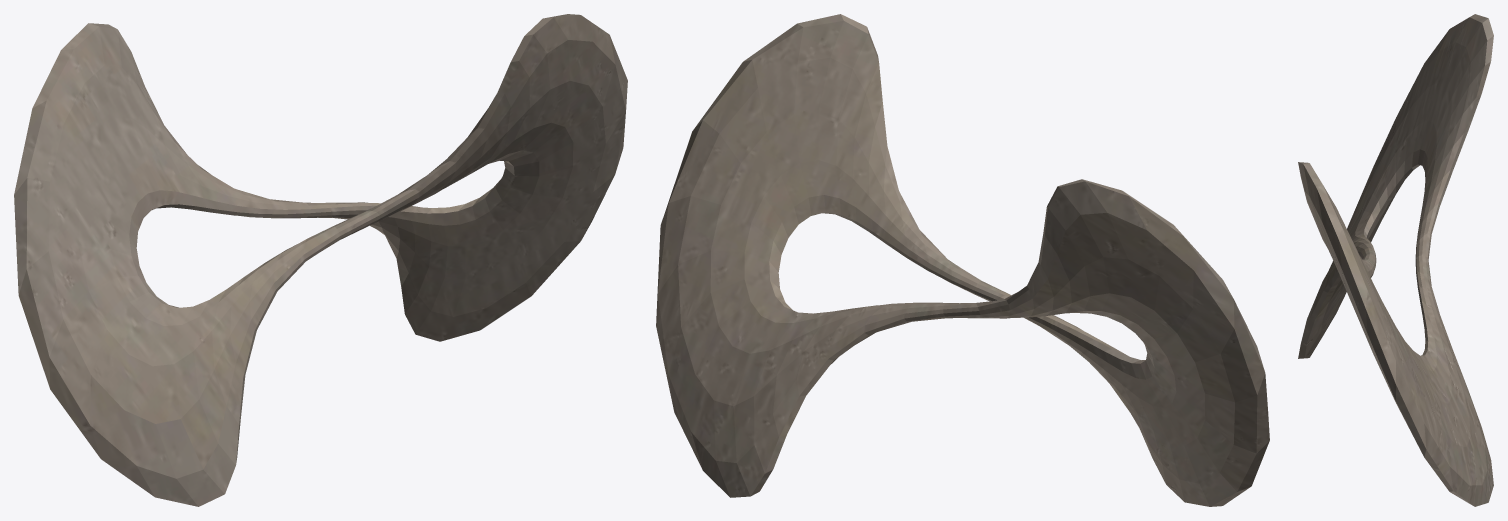
The model's file is Body-Model-Webp.glb.
The picture shows the model from 3 angles, left to right: view 1: azimuth 30°, elevation 25°; view 2: azimuth 150°, elevation 25°; view 3: azimuth 270°, elevation 25°; orthographic projection. The views are drawn at different scales.
Visible parts, largest first — view 1: Torus; view 2: Torus; view 3: Torus.
Boxes of the visible parts, x1=… form: Torus: x1=14, y1=14, x2=627, y2=506; Torus: x1=656, y1=14, x2=1269, y2=506; Torus: x1=1298, y1=14, x2=1493, y2=506.
Bounding box in the file's own units: 4.5 × 2.87 × 1.5.
Materials: 1 (1 with a texture image).
